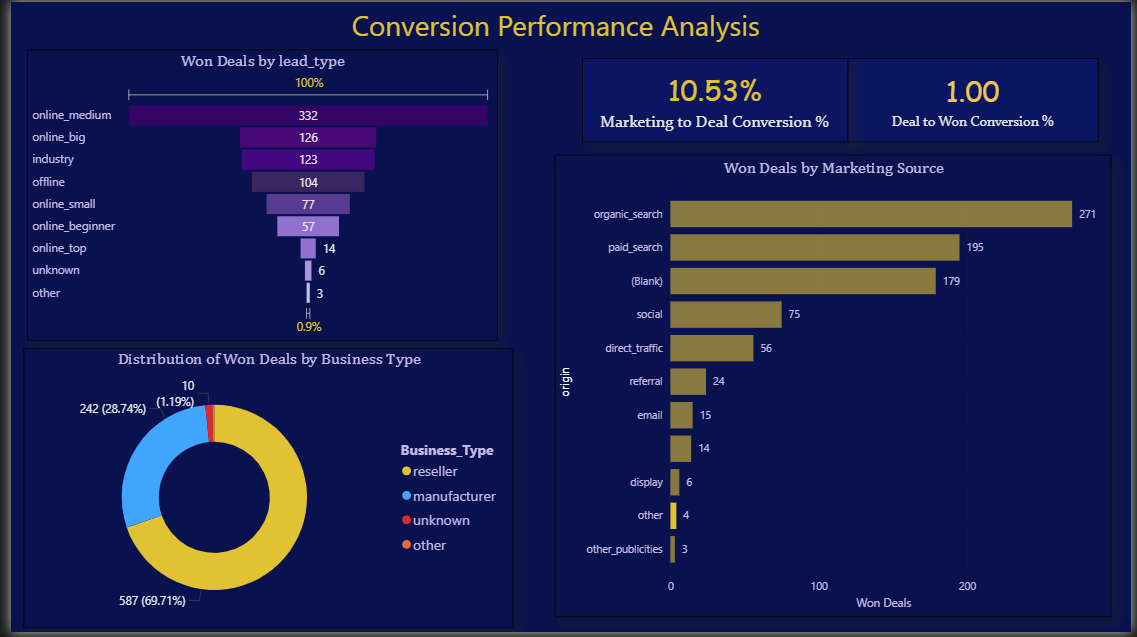

The dashboard page shown, as its layout file describes it:
{"tool":"powerbi","page":{"name":"Conversion Performance Analysis","canvas":[1280,720],"ordinal":1},"visuals":[{"type":"textbox","box":[384,0,496,64],"z":0},{"type":"clusteredBarChart","title":"Won Deals by Marketing Source","fields":{"Category":["marketing_leads.origin"],"Y":["cleaned_data.Won Deals"]},"box":[688,64,560,272],"z":1000},{"type":"donutChart","title":"Distribution of Won Deals by Business Type","fields":{"Y":["cleaned_data.Won Deals"],"Category":["cleaned_data.business_type"]},"box":[688,352,560,320],"z":2000},{"type":"card","fields":{"Values":["cleaned_data.Deal to Won Conversion %"]},"box":[352,64,288,96],"z":3000},{"type":"shape","box":[368,0,512,48],"z":4000},{"type":"card","fields":{"Values":["cleaned_data.Marketing to Deal Conversion %"]},"box":[32,64,304,96],"z":5000},{"type":"funnel","fields":{"Category":["cleaned_data.lead_type"],"Y":["cleaned_data.Won Deals"]},"box":[16,192,640,480],"z":6000}]}

Visuals, with their boxes in screenshot pixels (x1, y1, x2, y2), scaled from the page's 1280x720 canvas onto the 1137x637 screenshot:
textbox: {"x1": 341, "y1": 0, "x2": 782, "y2": 57}
"Won Deals by Marketing Source" clusteredBarChart: {"x1": 611, "y1": 57, "x2": 1109, "y2": 297}
"Distribution of Won Deals by Business Type" donutChart: {"x1": 611, "y1": 311, "x2": 1109, "y2": 595}
card - cleaned_data.Deal to Won Conversion %: {"x1": 313, "y1": 57, "x2": 568, "y2": 142}
shape: {"x1": 327, "y1": 0, "x2": 782, "y2": 42}
card - cleaned_data.Marketing to Deal Conversion %: {"x1": 28, "y1": 57, "x2": 298, "y2": 142}
funnel - cleaned_data.lead_type x cleaned_data.Won Deals: {"x1": 14, "y1": 170, "x2": 583, "y2": 595}
